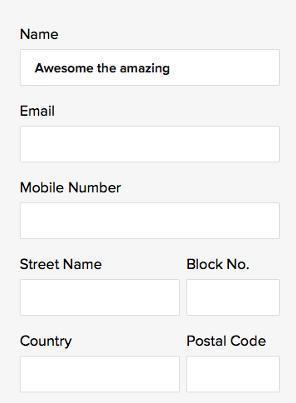input: (20, 201, 282, 242), (21, 50, 280, 86), (22, 127, 281, 161), (20, 355, 182, 394), (20, 280, 181, 317), (187, 279, 282, 319), (187, 356, 282, 395)
label: (20, 182, 124, 197), (187, 333, 267, 350), (20, 258, 103, 274), (186, 257, 250, 275), (21, 335, 75, 352), (19, 104, 58, 120), (21, 27, 60, 42)
